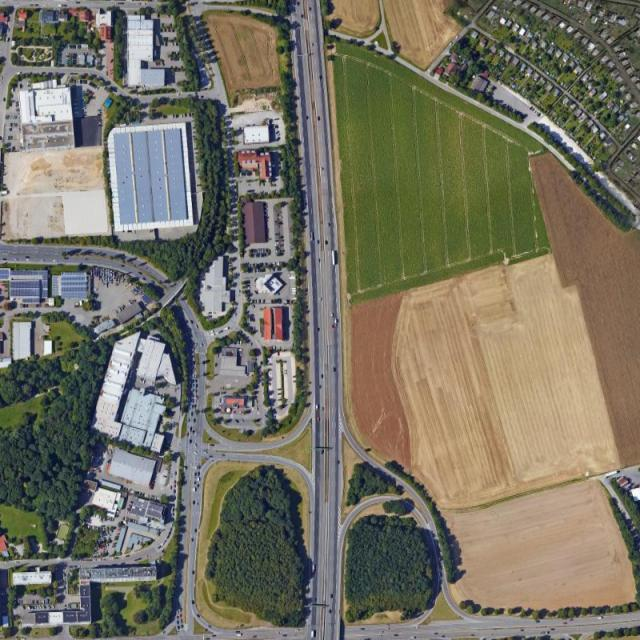vehicle: (332, 250, 335, 266), (311, 562, 315, 574), (310, 630, 314, 638), (317, 415, 321, 423), (300, 14, 304, 19), (330, 593, 334, 598), (320, 450, 324, 454), (318, 117, 321, 122), (306, 115, 309, 120), (326, 240, 329, 245), (316, 405, 318, 412), (319, 76, 322, 80), (318, 385, 321, 389), (329, 610, 332, 614), (309, 6, 311, 11), (312, 42, 314, 47), (328, 222, 330, 227), (297, 3, 299, 7), (318, 328, 320, 332), (321, 374, 323, 378), (320, 298, 322, 301)
